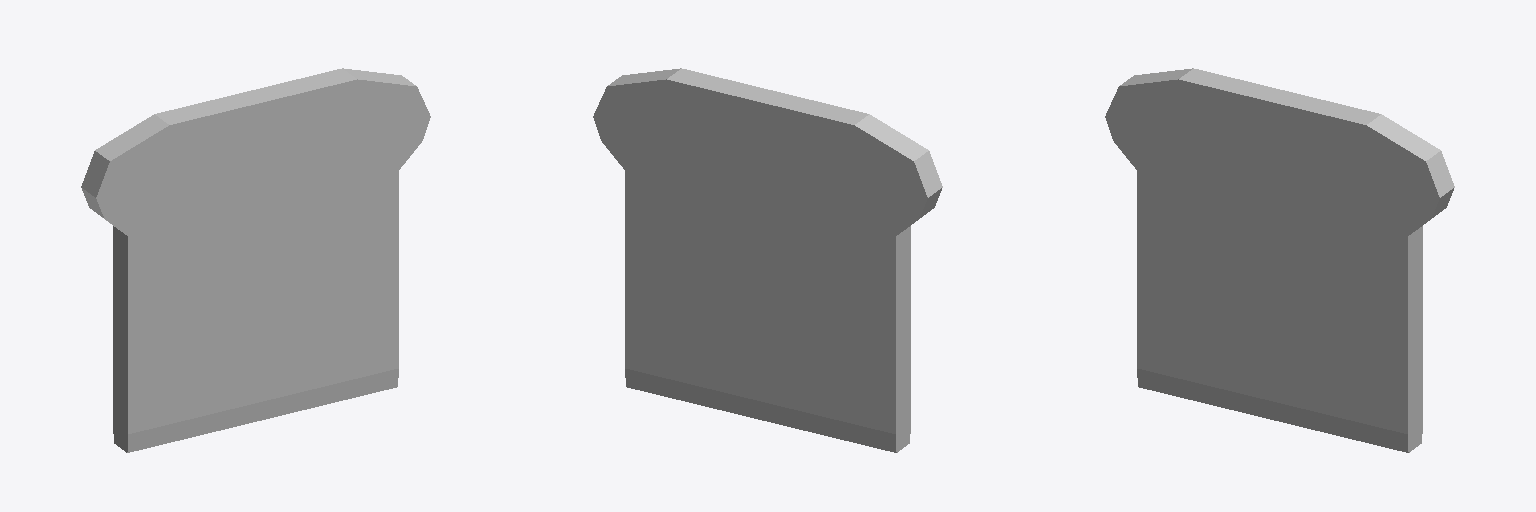
The model's file is bread.obj.
3 views of the same model, side by side, from view 1: azimuth 30°, elevation 25°; view 2: azimuth 150°, elevation 25°; view 3: azimuth 330°, elevation 25° (orthographic).
Visible parts, largest first — view 1: bread; view 2: bread; view 3: bread.
Part boxes in pixels (bbox=[...]): bread: bbox=[81, 68, 430, 452]; bread: bbox=[593, 68, 942, 452]; bread: bbox=[1105, 68, 1454, 452].
Bounding box in the file's own units: 0.4571 × 0.4154 × 0.0358.